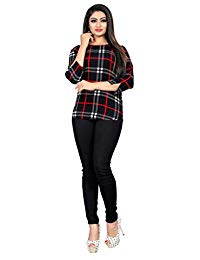tops: (64, 40, 135, 125)
